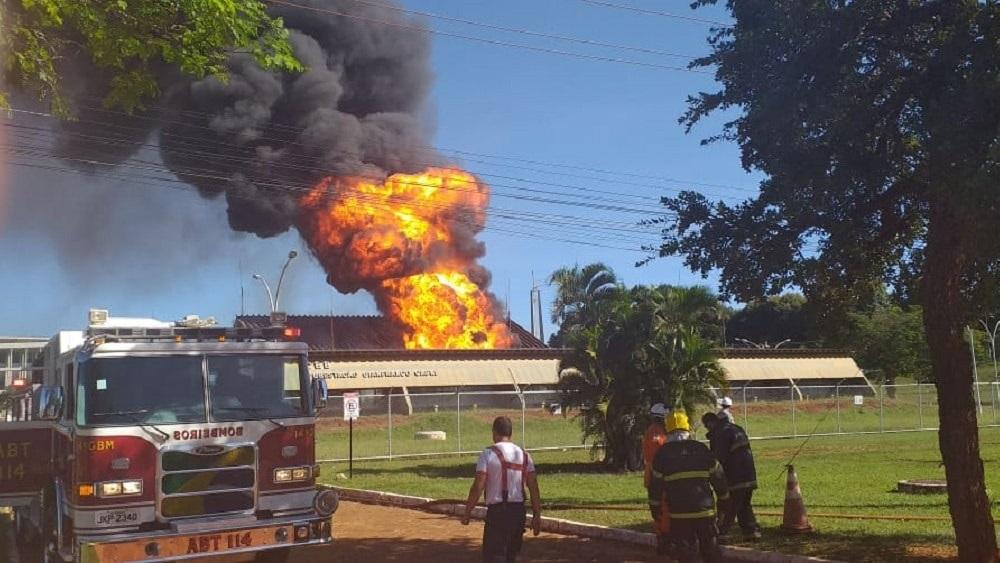fire: (312, 185, 505, 345)
smoke: (177, 61, 442, 174)
